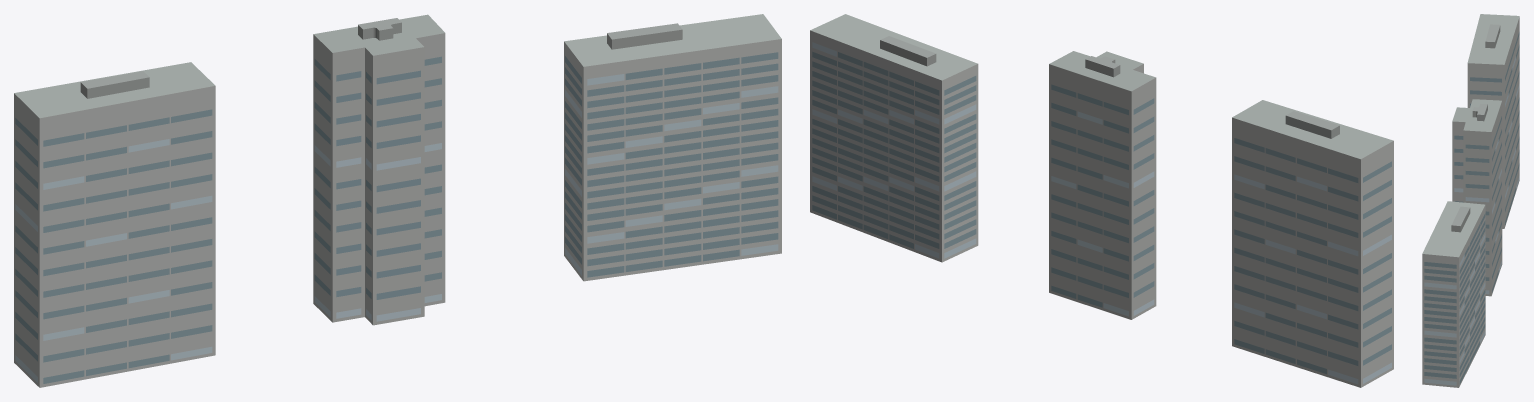
The model's file is apt-a15209201.glb.
3 renders of one model, left to right at view 1: azimuth 30°, elevation 25°; view 2: azimuth 150°, elevation 25°; view 3: azimuth 270°, elevation 25°, orthographic. The views are drawn at different scales.
Parts seen in each view (by area): view 1: apt-a15209201; view 2: apt-a15209201; view 3: apt-a15209201.
Boxes of the visible parts, x1,y1,x2,y2 form: apt-a15209201: (14, 14, 781, 387); apt-a15209201: (810, 14, 1393, 387); apt-a15209201: (1422, 14, 1519, 387).
Size of the model in its own units: 174 by 66 by 34.25.
